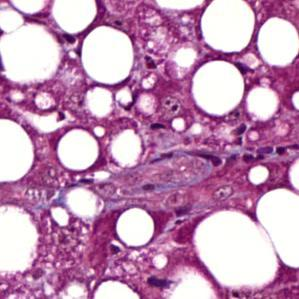steatosis: (81, 28, 134, 86), (192, 59, 240, 122), (60, 130, 99, 172)
